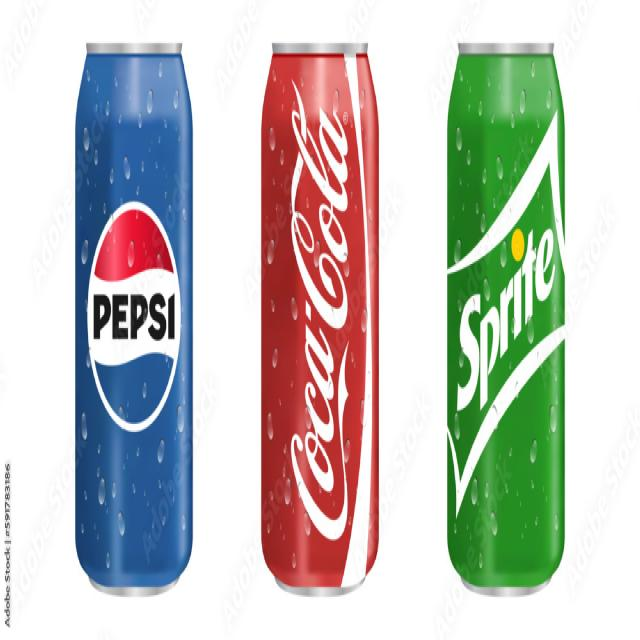cocacola: (258, 37, 387, 608)
